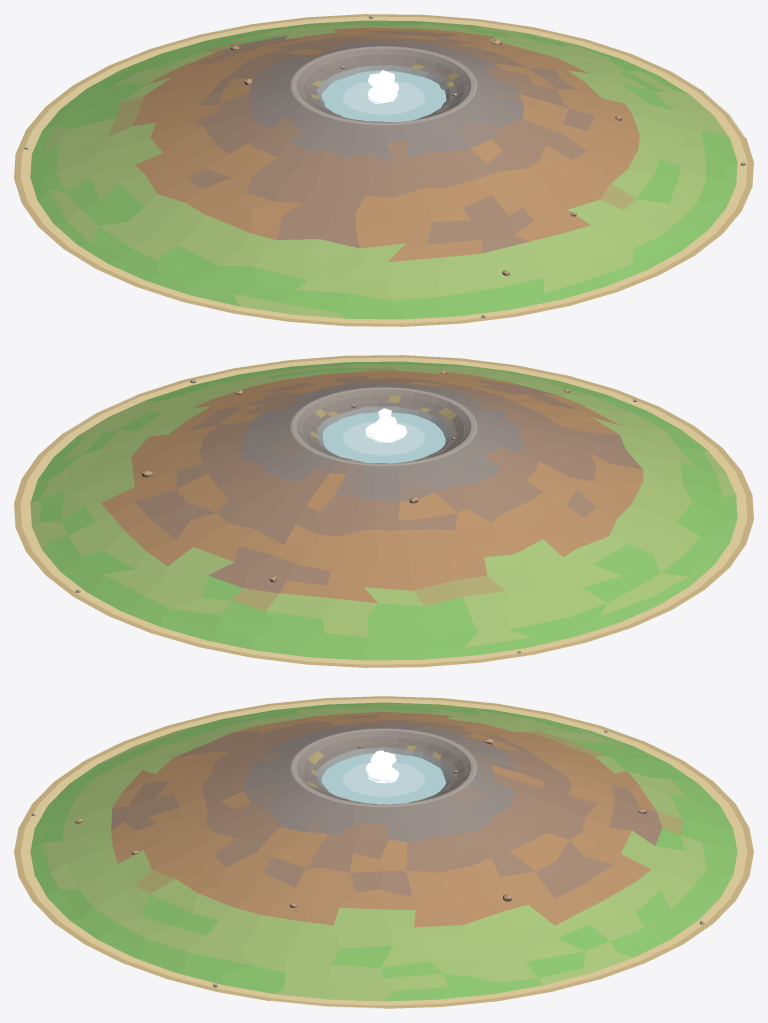
Rendered from volcano.glb.
3 views of the same model, one above another, from view 1: azimuth 30°, elevation 25°; view 2: azimuth 150°, elevation 25°; view 3: azimuth 270°, elevation 25° (orthographic).
Visible parts, largest first — view 1: volcano; view 2: volcano; view 3: volcano.
Part boxes in pixels (<box>): volcano: <box>14,14,753,326</box>; volcano: <box>14,355,753,667</box>; volcano: <box>14,696,753,1008</box>.
Size of the model in its own units: 792 by 120 by 792.
